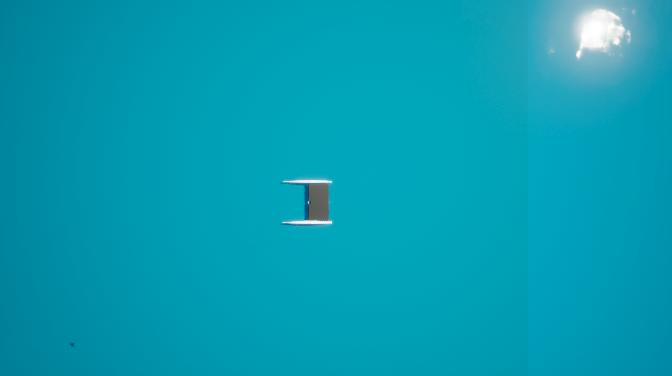boat: (279, 178, 336, 228)
drone: (69, 341, 77, 349)
land_base: (309, 183, 328, 221)
light_reflex: (533, 0, 668, 84)
